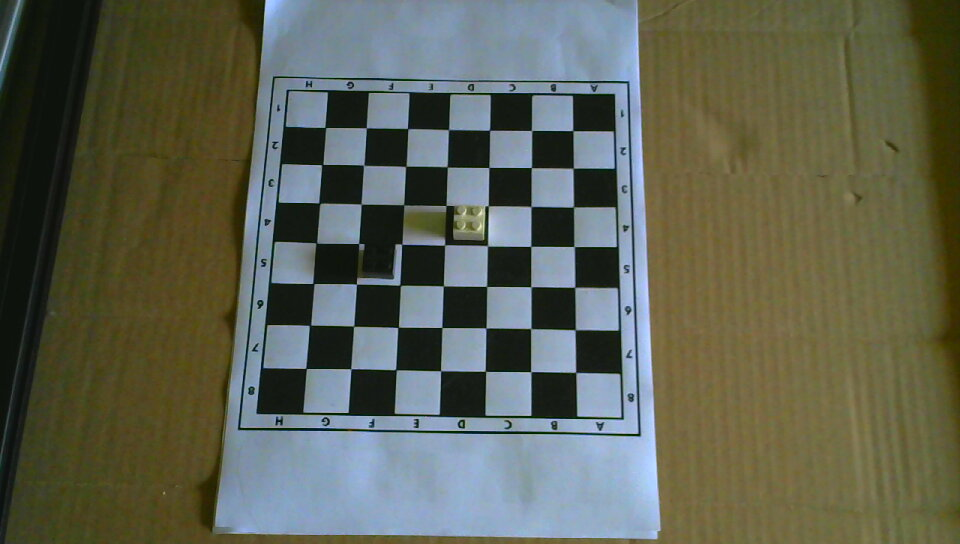bp: (360, 240, 396, 281)
wp: (452, 203, 486, 243)
